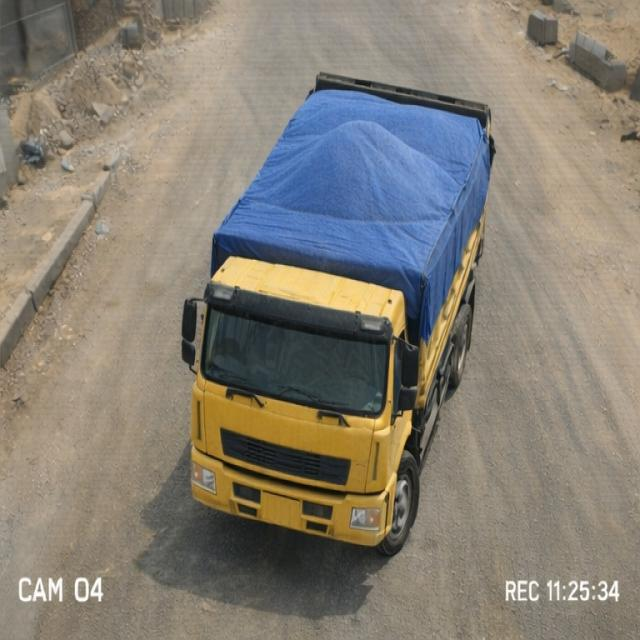Box: (212, 72, 500, 249)
Truck: (177, 54, 520, 537)
